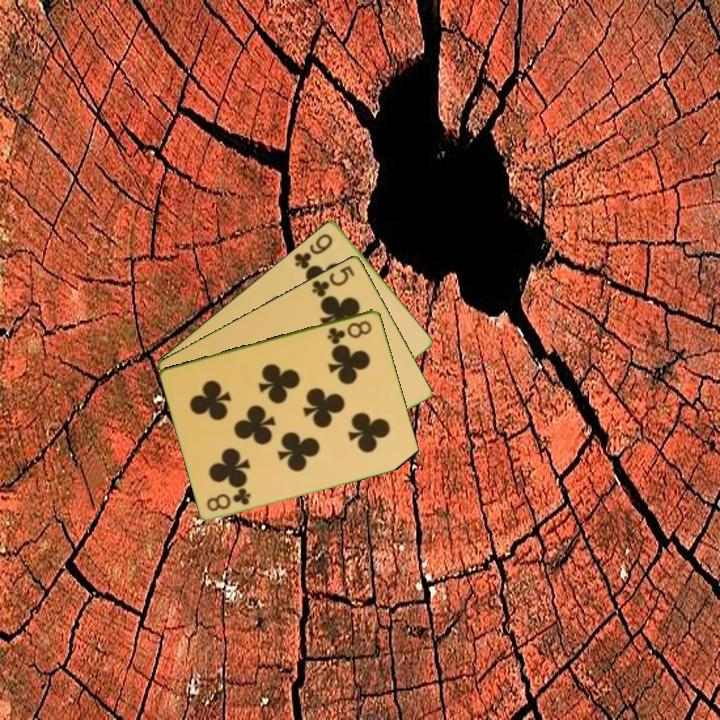5c: (308, 262, 358, 302)
8c: (324, 317, 375, 347), (203, 485, 254, 514)
9c: (290, 229, 336, 272)
